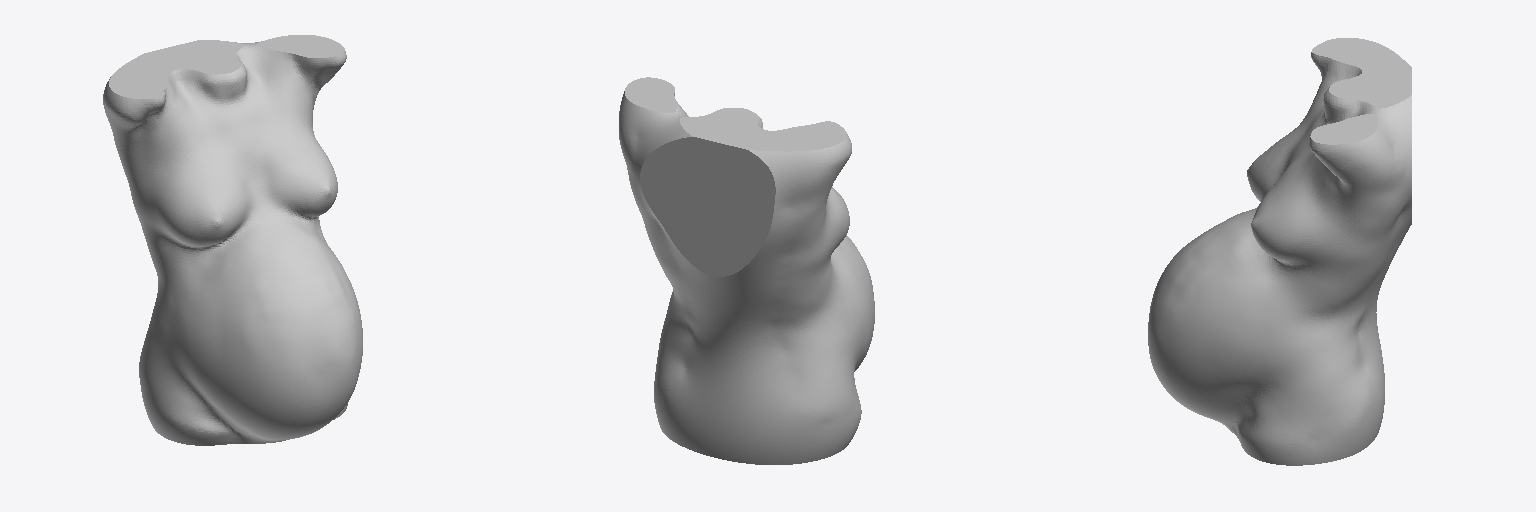
File: polhemus_pregnantwoman.obj
3 views of the same model, side by side, from view 1: azimuth 30°, elevation 25°; view 2: azimuth 150°, elevation 25°; view 3: azimuth 270°, elevation 25° (orthographic).
Bounding box in the file's own units: 1.42 × 2 × 1.45.